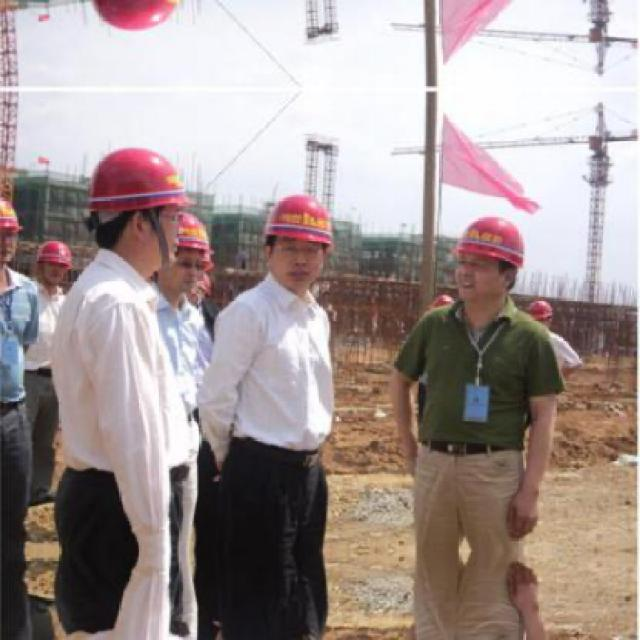helmet: (84, 138, 190, 276), (445, 209, 529, 311), (258, 186, 337, 289), (85, 0, 193, 38), (166, 209, 212, 291), (35, 232, 74, 285), (2, 188, 23, 278), (523, 290, 552, 336)
